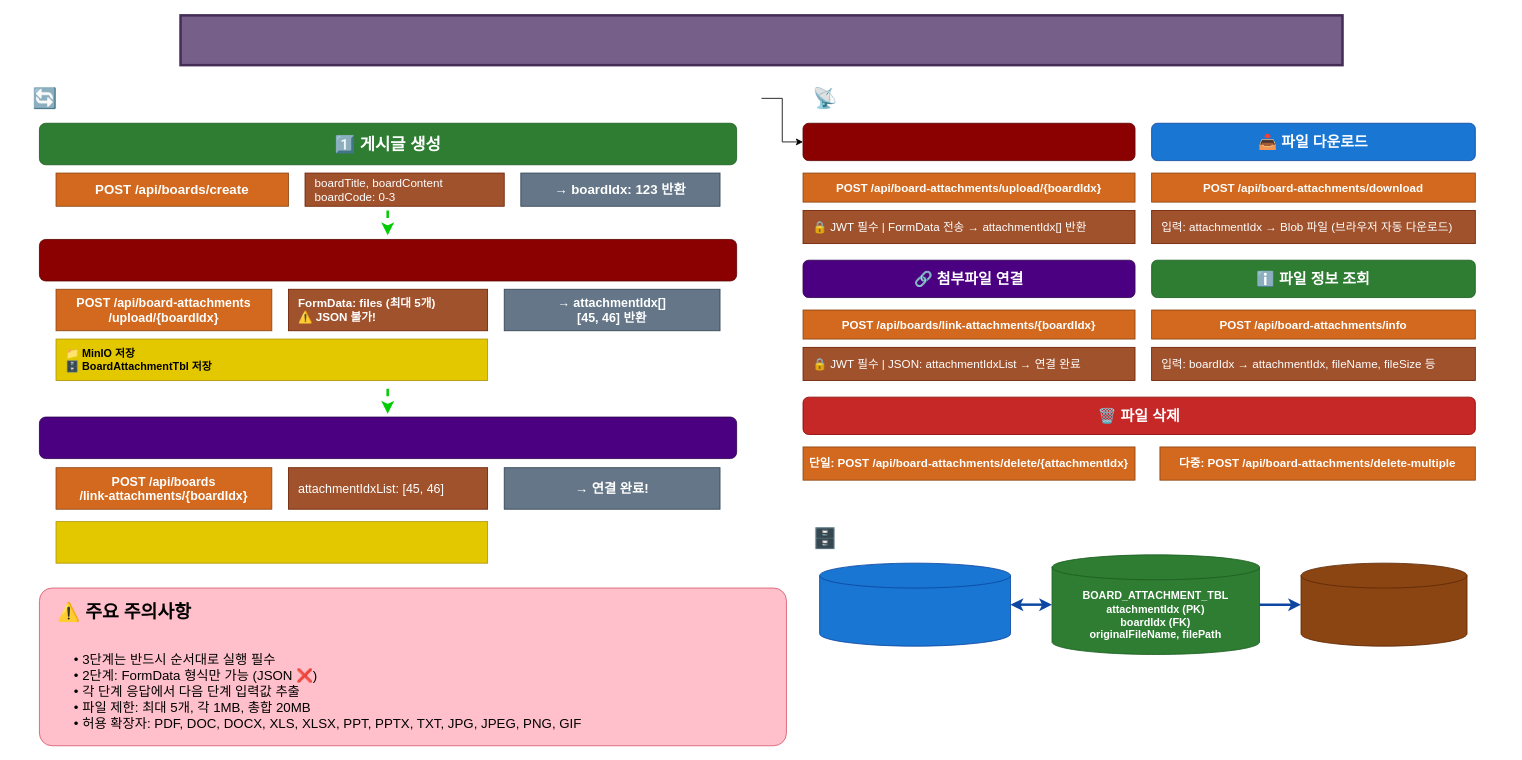
Image size: 1522x760. Some labels were removed from this diagram. The centre of each missing label's shape, as x and y in pixels:
"03. 첨부파일 시스템 (API + 워크플로우)" goes at point (761, 40).
"2️⃣ 파일 업로드" goes at point (388, 260).
"3️⃣ 첨부파일 연결" goes at point (388, 437).
"BOARD_TBL boardIdx (PK) boardTitle, boardContent" goes at point (915, 604).
"MinIO 객체 스토리지 실제 파일 저장" goes at point (1383, 604).
"📤 파일 업로드" goes at point (968, 141).
"🗄️ BoardAttachmentTbl boardIdx 업데이트" goes at point (271, 542).
